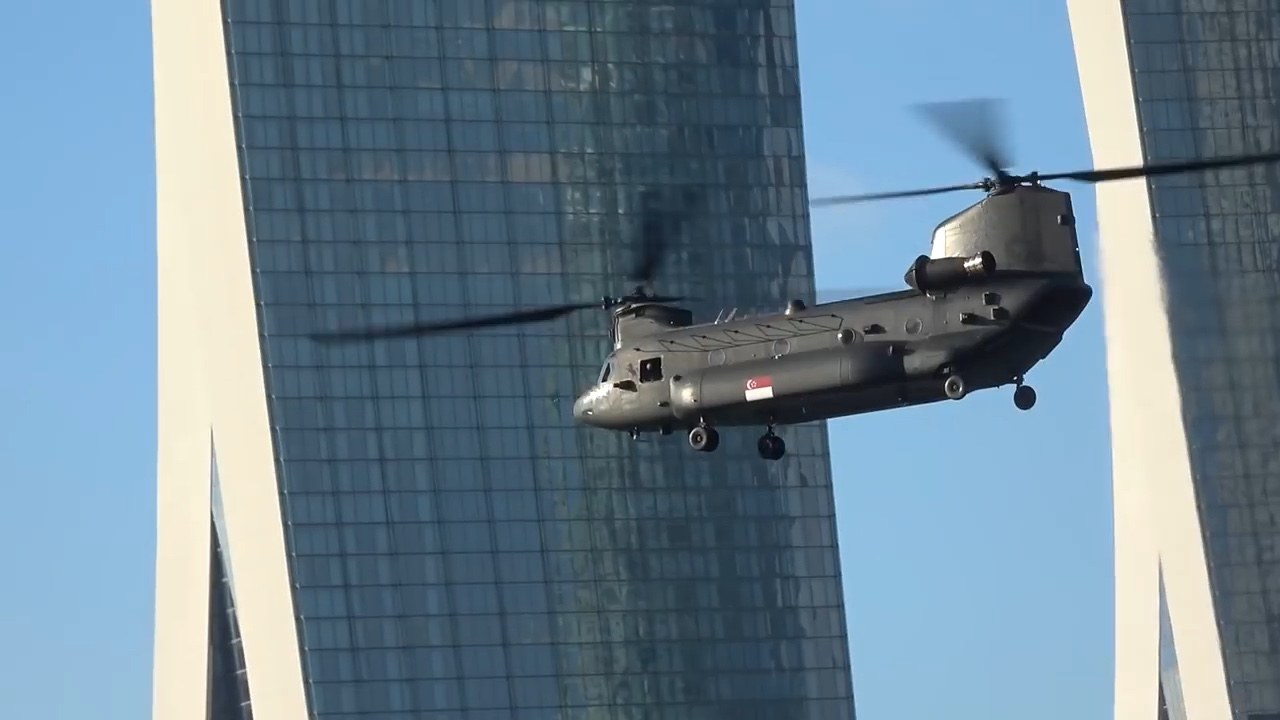chinook: (305, 98, 1280, 464)
